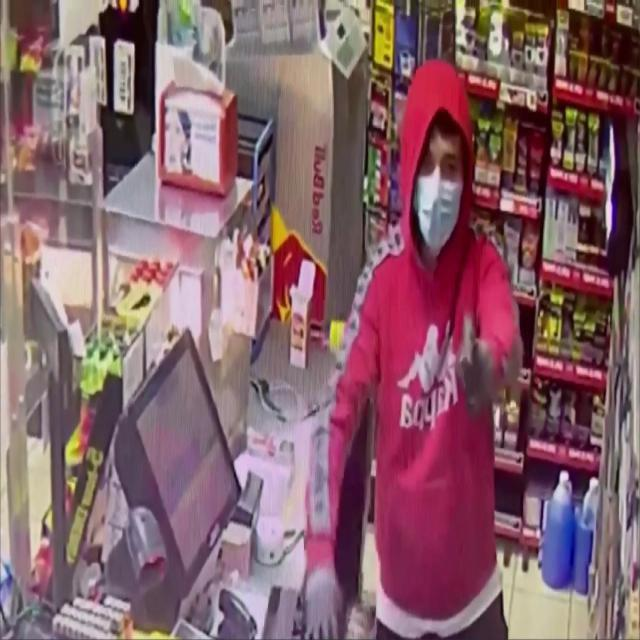weapon: (452, 315, 484, 386)
